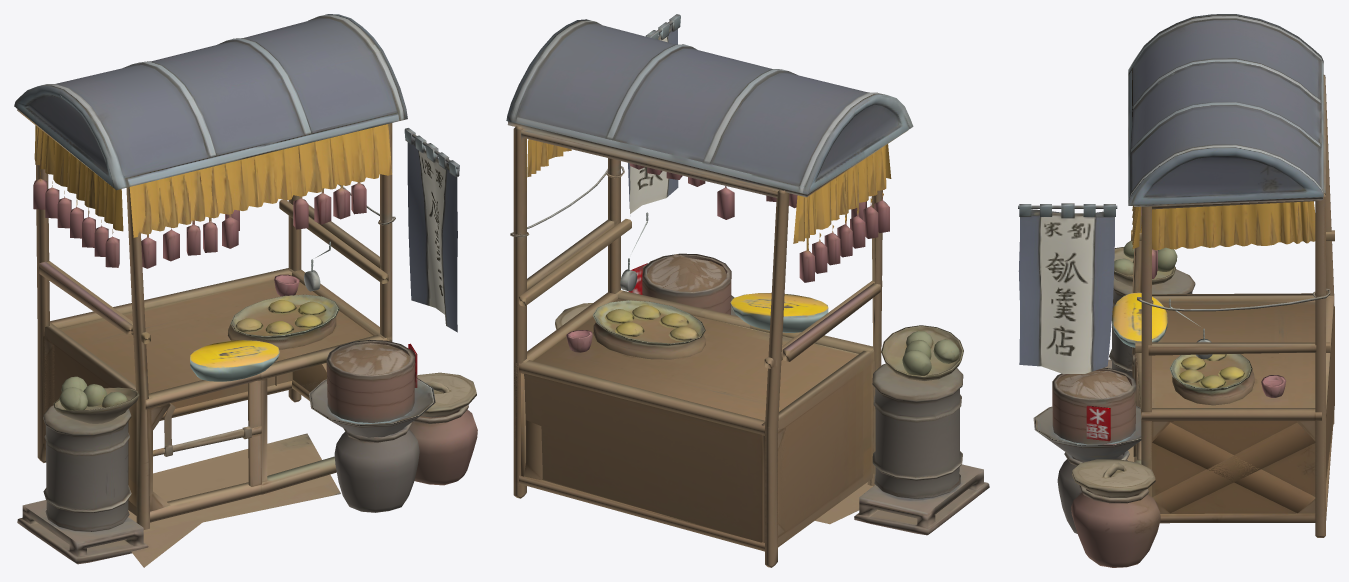
Rendered from reference-stall.glb.
3 renders of one model, left to right at view 1: azimuth 30°, elevation 25°; view 2: azimuth 150°, elevation 25°; view 3: azimuth 270°, elevation 25°, orthographic. The views are drawn at different scales.
Visible parts, largest first — view 1: tripo_node_7ad61cfd-89ba-4240-a4ba-1b45a51a74e2; view 2: tripo_node_7ad61cfd-89ba-4240-a4ba-1b45a51a74e2; view 3: tripo_node_7ad61cfd-89ba-4240-a4ba-1b45a51a74e2.
Part boxes in pixels (box(x1,y1,x2,y2)): tripo_node_7ad61cfd-89ba-4240-a4ba-1b45a51a74e2: box(14, 14, 477, 567); tripo_node_7ad61cfd-89ba-4240-a4ba-1b45a51a74e2: box(506, 14, 989, 567); tripo_node_7ad61cfd-89ba-4240-a4ba-1b45a51a74e2: box(1018, 14, 1334, 567).
Bounding box in the file's own units: 0.9995 × 0.9888 × 0.7075.
Materials: 1 (1 with a texture image).
